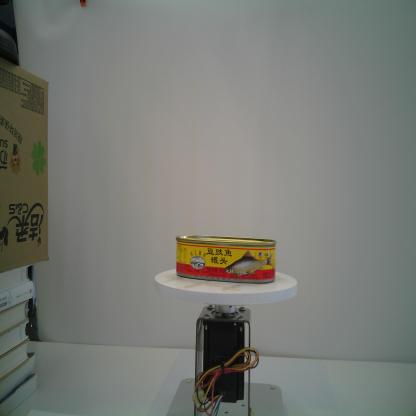Canned Food: (174, 232, 279, 286)
